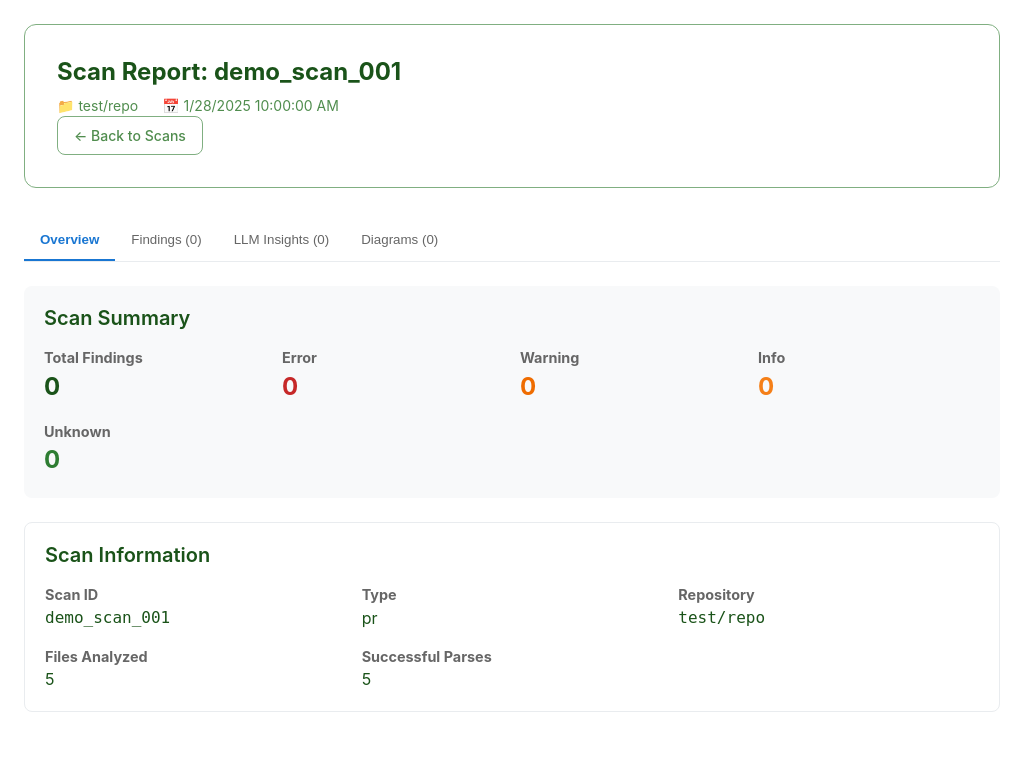
ReportView Component › displays empty states correctly
Expected: the heading "Scan Report: demo_scan_001" is shown, [57,57,401,86]
Check findings empty state
Click the button "Findings (0)".
click(166, 240)  # box [115,220,218,261]
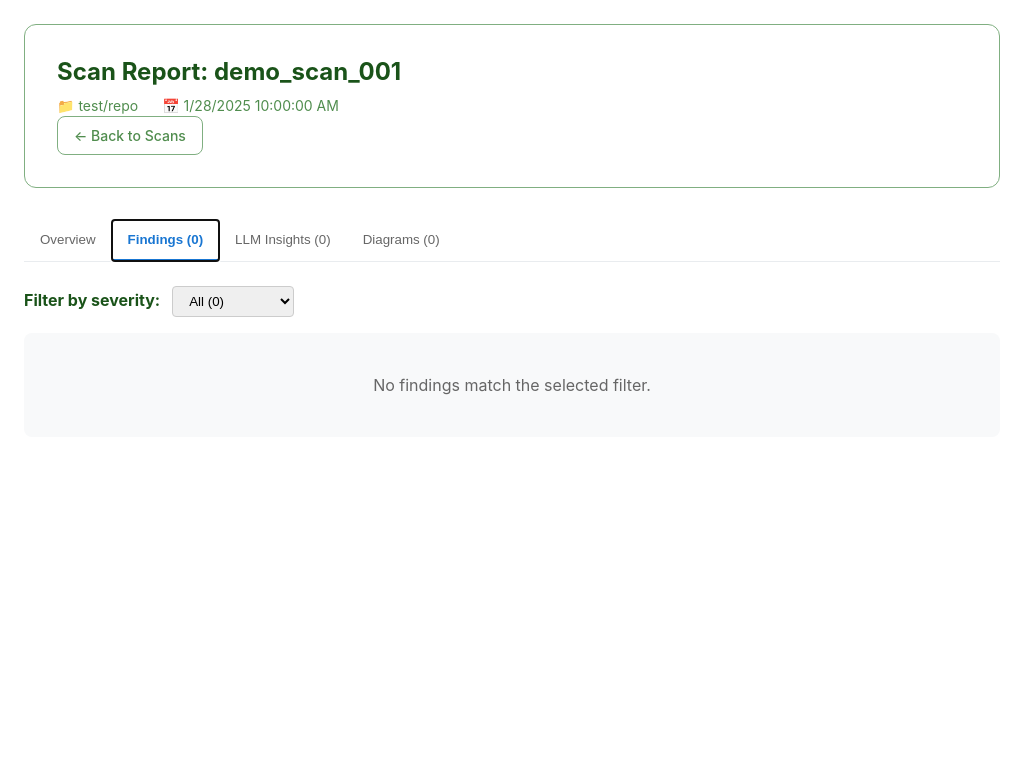
Result: the text "No findings match the selected filter." is shown at [24,333,1000,437]
Check insights empty state
Click the button "LLM Insights (0)".
click(283, 240)  # box [219,220,347,261]
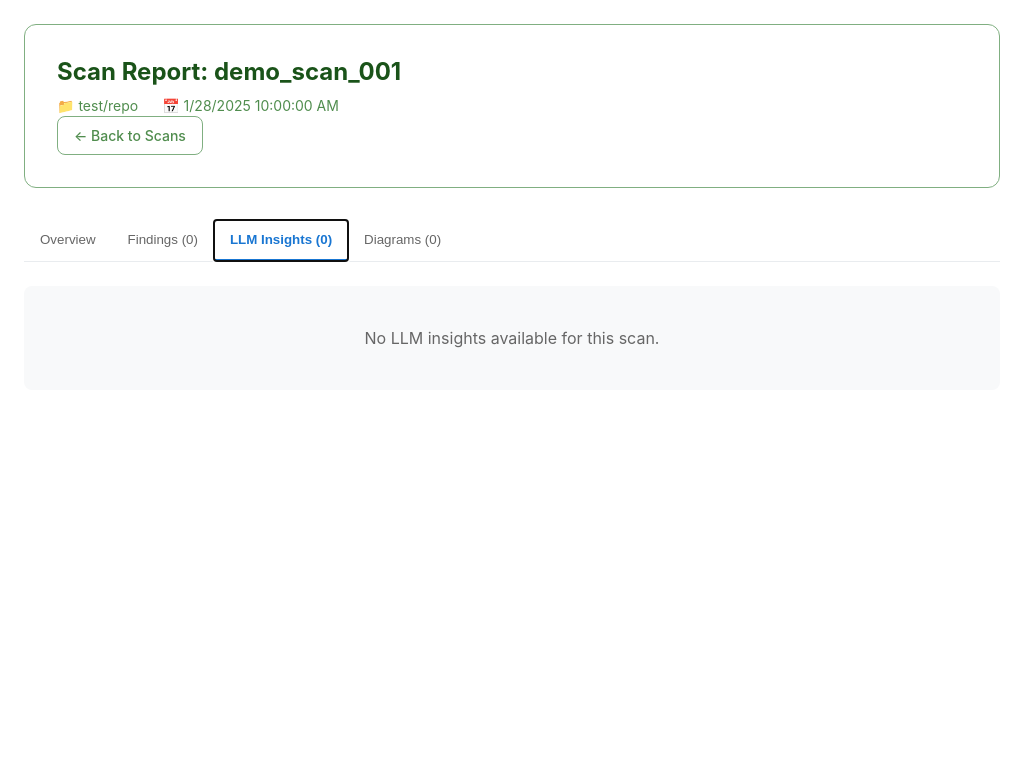
Result: the text "No LLM insights available for this scan." is shown at [24,286,1000,390]
Check diagrams empty state
Click the button "Diagrams (0)".
click(403, 240)  # box [348,220,457,261]
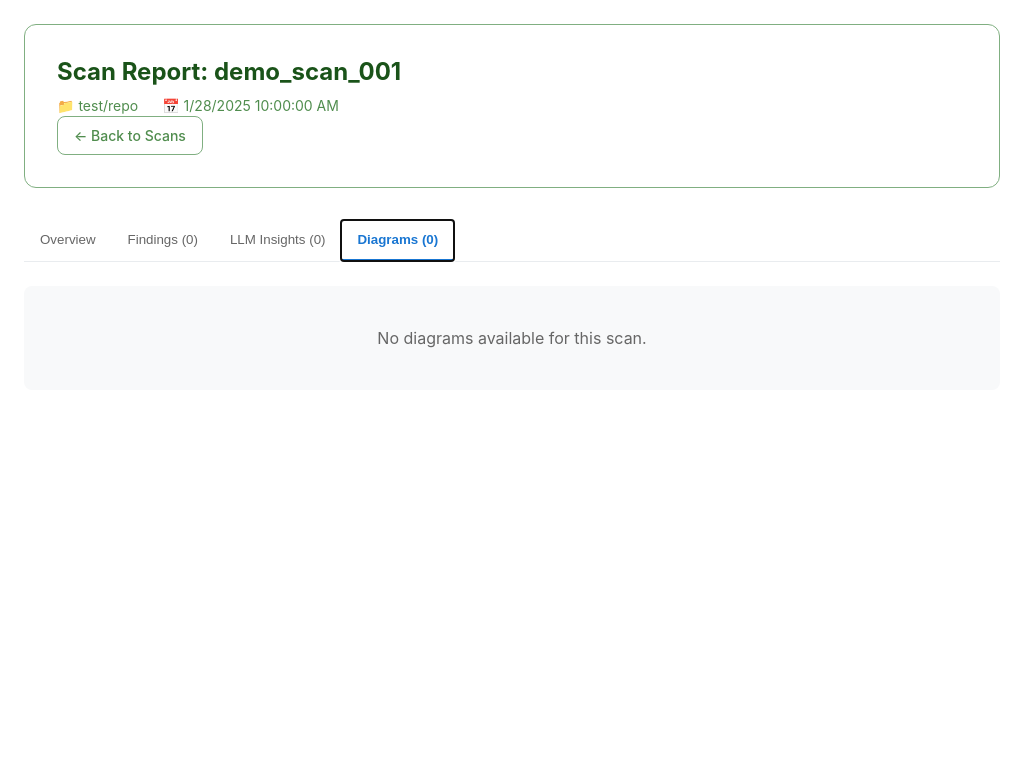
Result: the text "No diagrams available for this scan." is shown at [24,286,1000,390]
